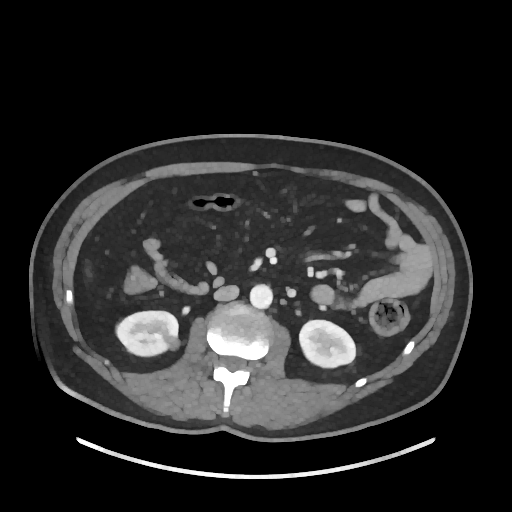Lesion: (160, 332, 181, 354)
